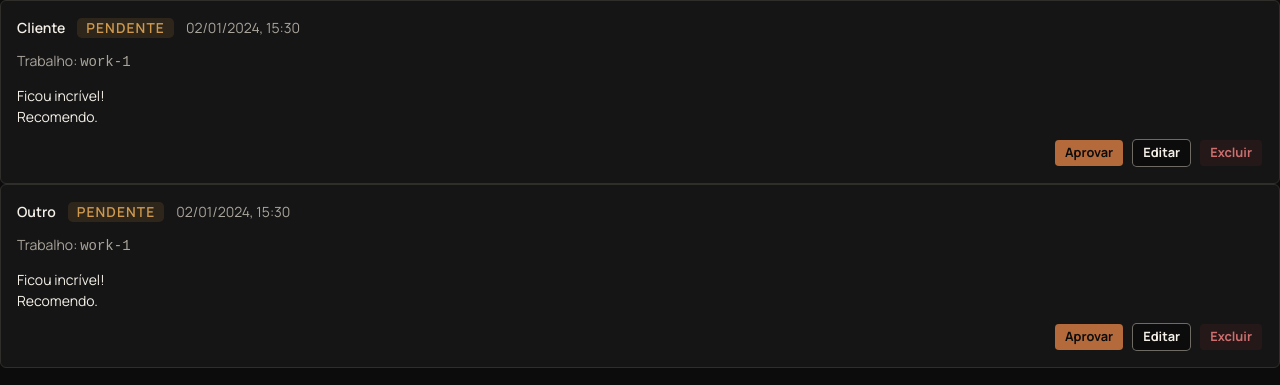
CommentListItem › pending é isolado por item
The image size is (1280, 385).
Click the button named "Aprovar comentário de Cliente": x=1089, y=153 x1=1054 y1=139 x2=1124 y2=167
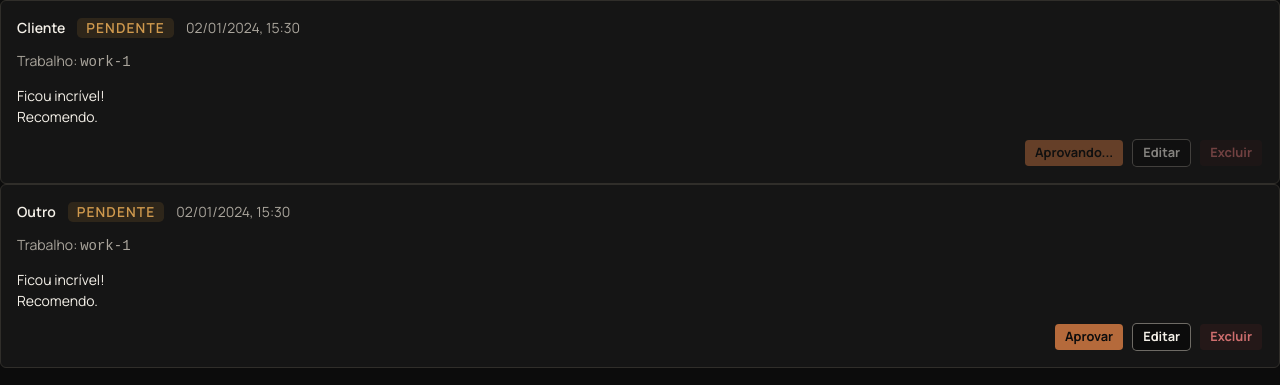
Expected: the button named "Aprovar comentário de Outro" is enabled, x1=1054 y1=323 x2=1124 y2=351
Expected: the button named "Aprovando... comentário de Cliente" is disabled, x1=1024 y1=139 x2=1124 y2=167
